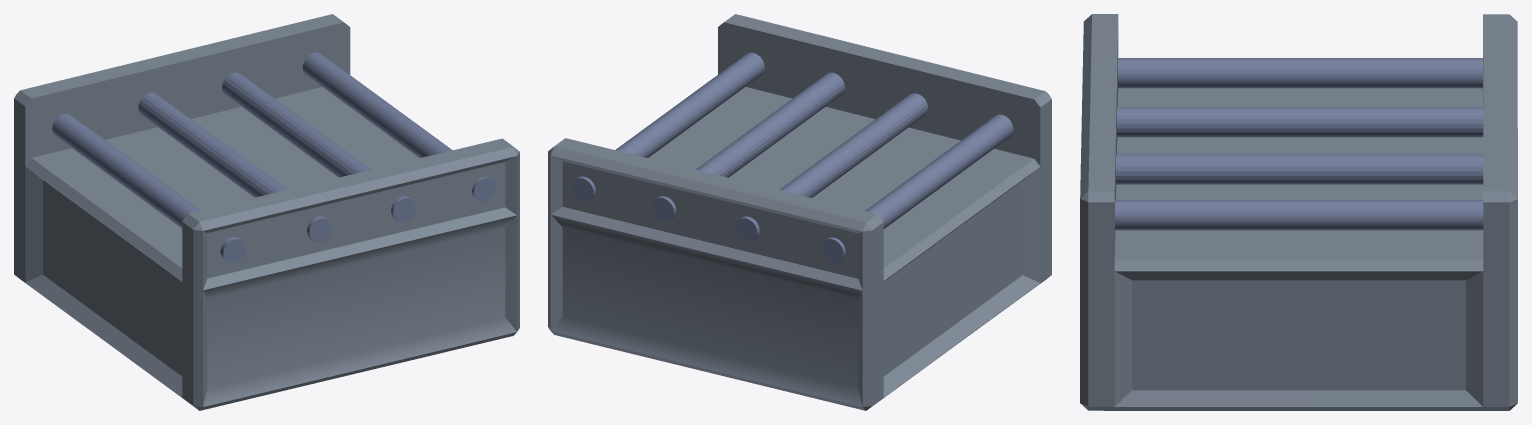
The model's file is ベルトコンベアー(台).fbx.
3 renders of one model, left to right at view 1: azimuth 30°, elevation 25°; view 2: azimuth 150°, elevation 25°; view 3: azimuth 270°, elevation 25°, orthographic. The views are drawn at different scales.
Parts seen in each view (by area): view 1: pasted__pCylinder2; view 2: pasted__pCylinder2; view 3: pasted__pCylinder2.
Part boxes in pixels (left/top/right/bottom): pasted__pCylinder2: left=14, top=14, right=519, bottom=410; pasted__pCylinder2: left=548, top=14, right=1051, bottom=410; pasted__pCylinder2: left=1080, top=14, right=1517, bottom=410.
Size of the model in its own units: 3.12 by 1.73 by 3.13.
